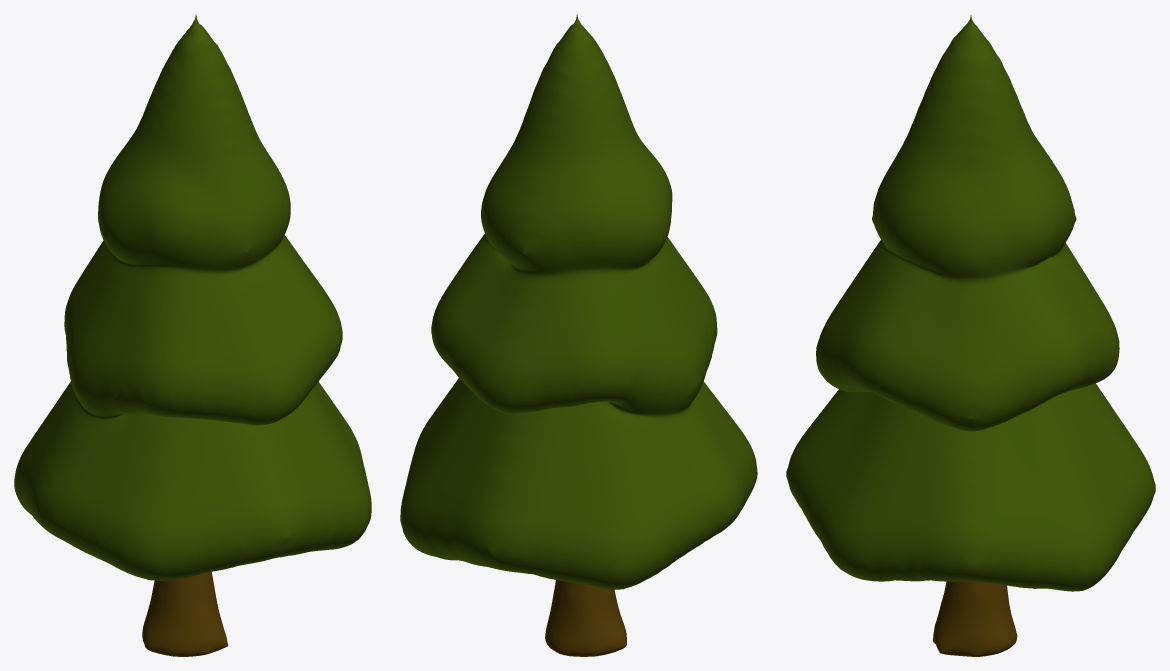
File: Tree4.glb
3 views of the same model, side by side, from view 1: azimuth 30°, elevation 25°; view 2: azimuth 150°, elevation 25°; view 3: azimuth 270°, elevation 25° (orthographic).
Parts seen in each view (by area): view 1: Tree4_canopy, Tree4_trunk; view 2: Tree4_canopy, Tree4_trunk; view 3: Tree4_canopy, Tree4_trunk.
Part boxes in pixels (box(x1,y1,x2,y2)): Tree4_canopy: box(14, 14, 371, 580); Tree4_trunk: box(142, 571, 227, 656); Tree4_canopy: box(400, 14, 757, 589); Tree4_trunk: box(545, 580, 626, 656); Tree4_canopy: box(786, 14, 1155, 591); Tree4_trunk: box(932, 581, 1017, 656).
Bounding box in the file's own units: 5.63 × 10.85 × 5.7.
